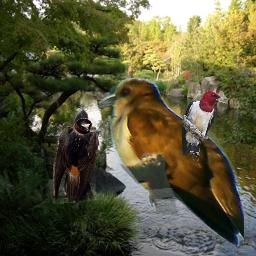Cuckoo: (99, 78, 244, 249)
Swallow: (53, 118, 98, 204)
Woodpecker: (180, 91, 230, 161)
